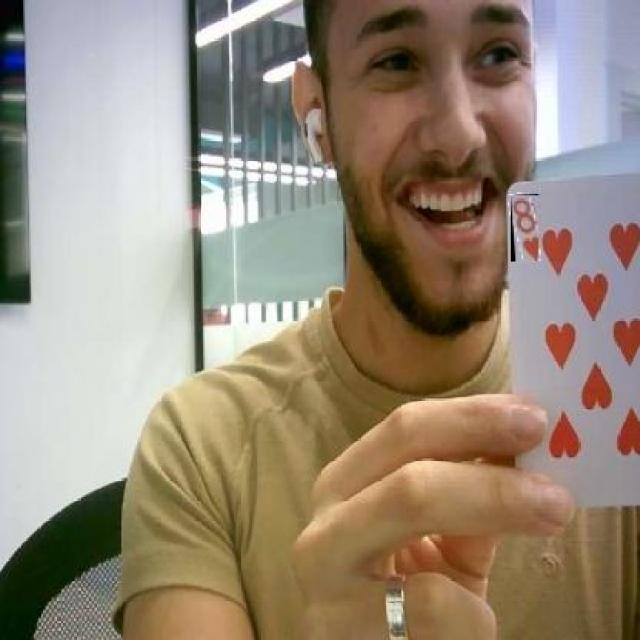8H: (511, 194, 538, 261)
